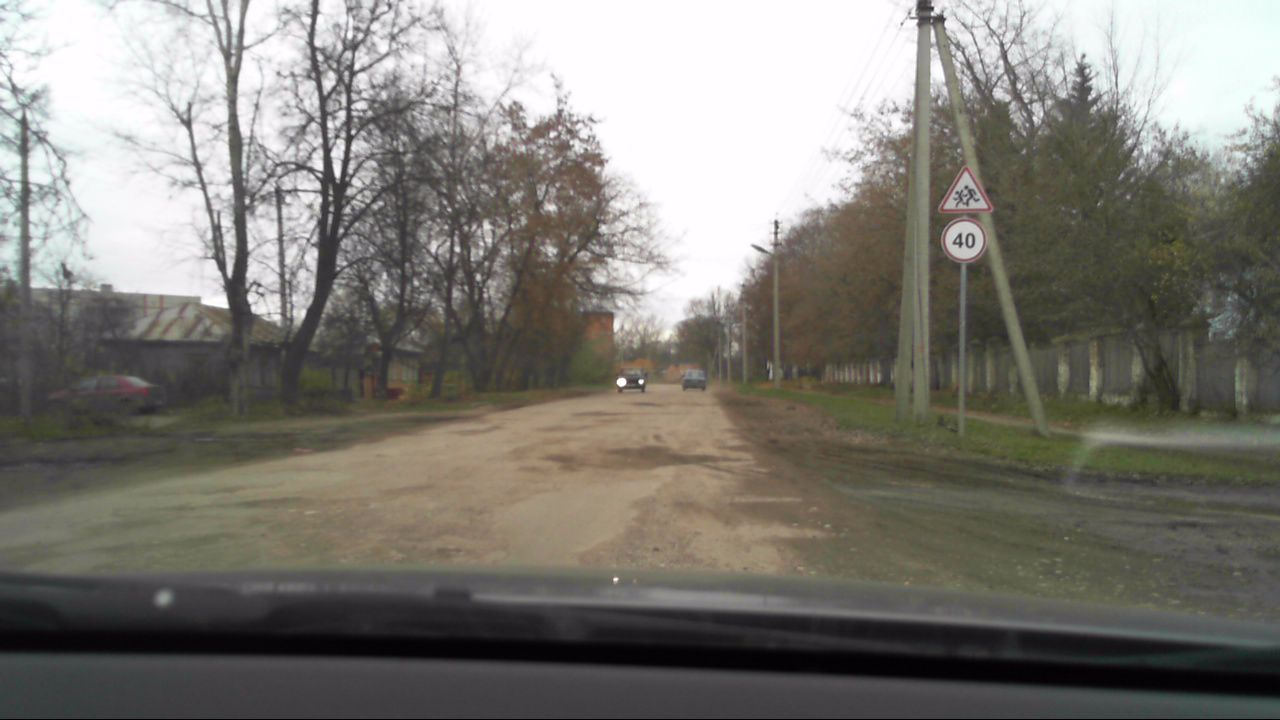speed_warning_40: (939, 218, 988, 264)
